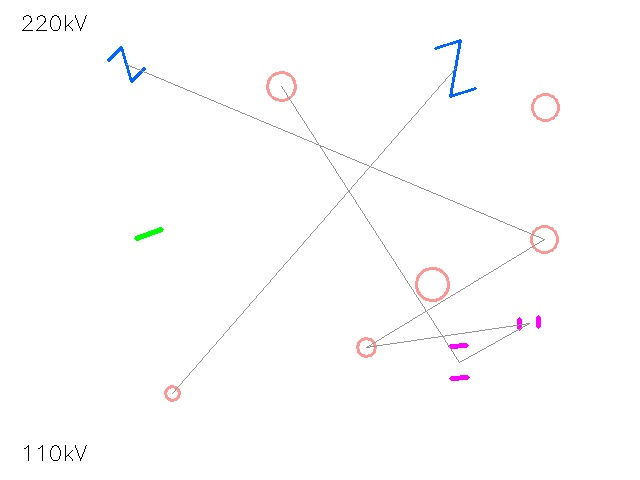busbar: (133, 218, 165, 250)
capacitor: (432, 335, 486, 389), (513, 307, 545, 339)
circuit_breaker: (427, 40, 483, 96), (108, 46, 144, 82)
current_transformer: (252, 57, 310, 115), (347, 328, 385, 366)
feeder_terminal: (157, 378, 187, 408)
load_break_switch: (519, 81, 571, 133), (518, 213, 570, 265)
voltage_transformer: (399, 251, 465, 317)
